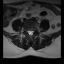CCS_normal: (29, 29, 31, 37)
LFS_stenosis: (34, 28, 36, 33)
LLS_normal: (31, 29, 33, 36)
RFS_normal: (26, 28, 27, 34)
RLS_normal: (27, 29, 29, 35)
